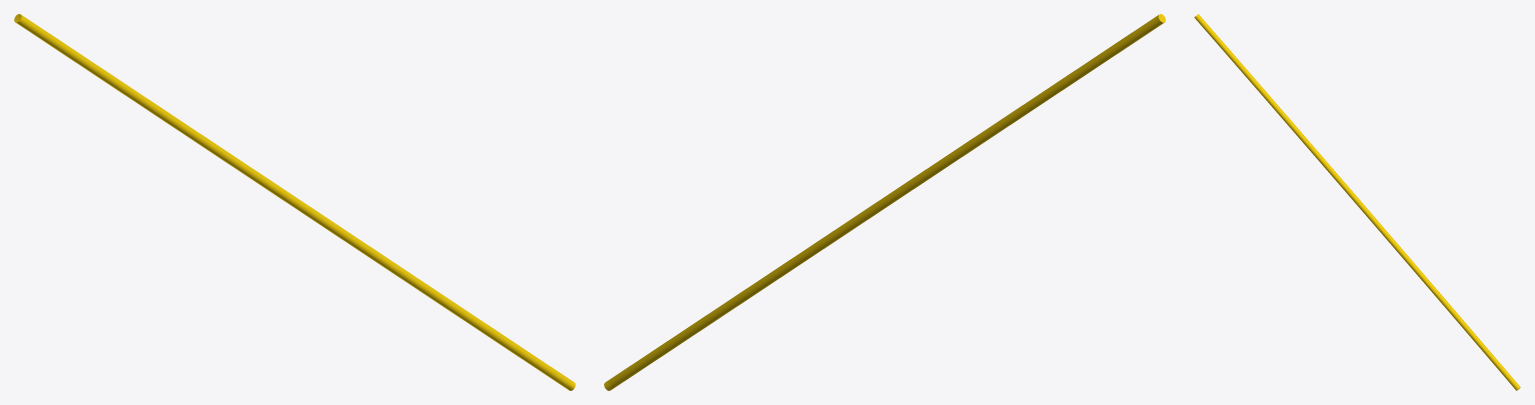
File: Event_420604493_track_1.fbx
3 views of the same model, side by side, from view 1: azimuth 30°, elevation 25°; view 2: azimuth 150°, elevation 25°; view 3: azimuth 330°, elevation 25° (orthographic). The views are drawn at different scales.
Visible parts, largest first — view 1: Model; view 2: Model; view 3: Model.
Part boxes in pixels (x1,y1,x2,y2): Model: (14,14,575,390); Model: (604,14,1165,390); Model: (1194,14,1520,390).
Bounding box in the file's own units: 2.66 × 2.32 × 0.0572.
